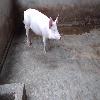heo: (21, 7, 63, 54)
